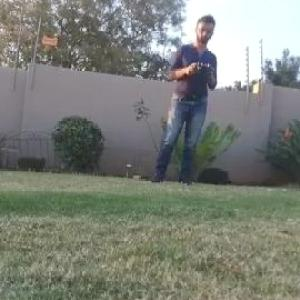follow: (142, 6, 221, 191)
